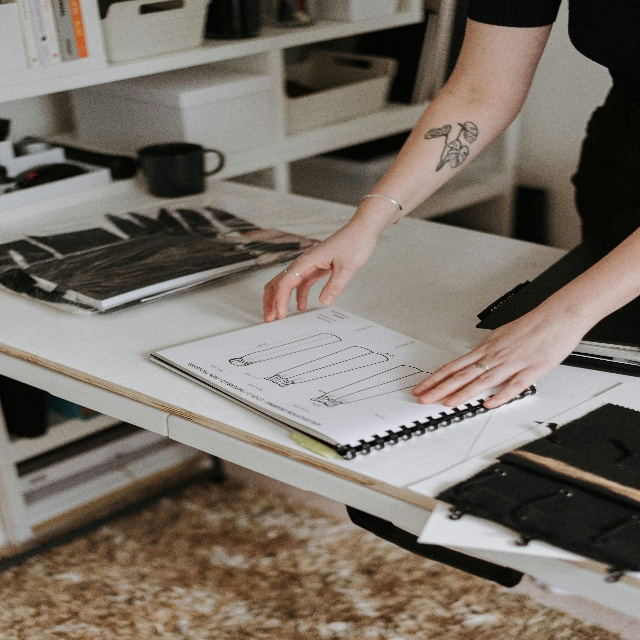Sin_guantes: (412, 293, 586, 410), (263, 220, 378, 323)
